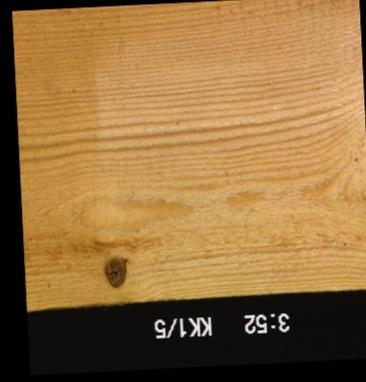dry_knot: (103, 254, 129, 287)
